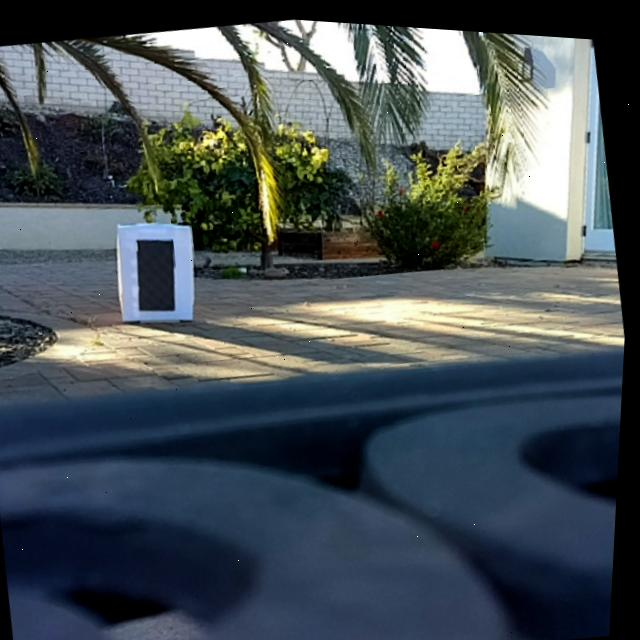led: (133, 233, 185, 314)
